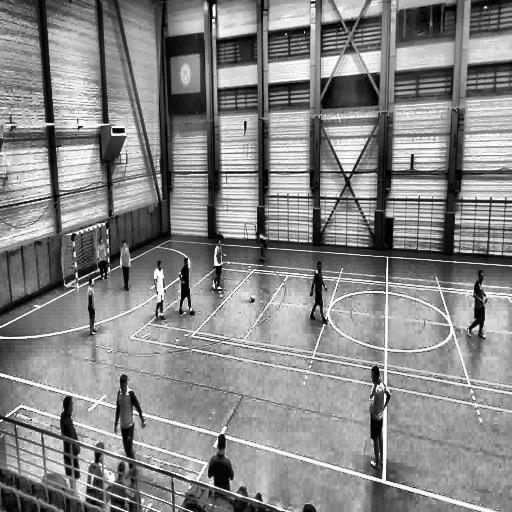ball: (249, 294, 254, 302)
player: (114, 374, 146, 466), (366, 364, 388, 470), (60, 396, 81, 496), (305, 258, 326, 323), (466, 271, 486, 339), (178, 256, 195, 316), (153, 260, 166, 321), (88, 277, 98, 335), (120, 241, 131, 291), (214, 239, 224, 289), (97, 238, 108, 281), (255, 231, 267, 263)
